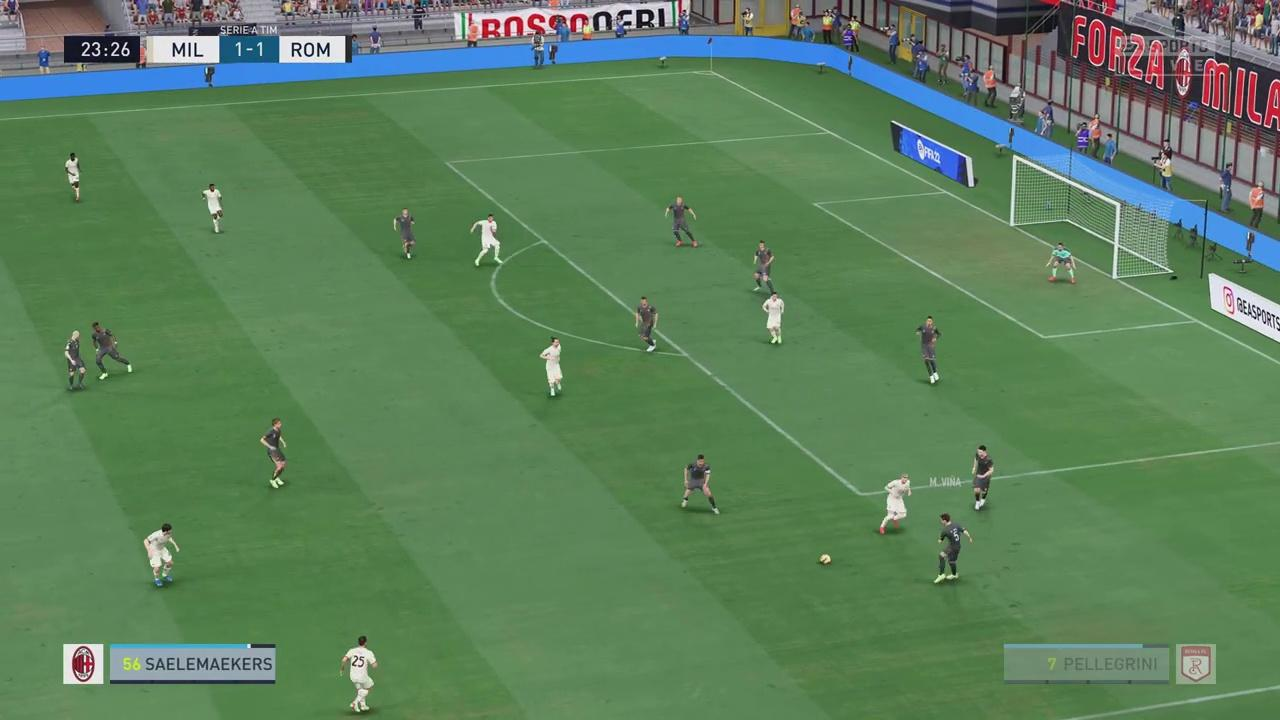scoreboard: (147, 34, 356, 64)
timestamp: (63, 35, 142, 63)
